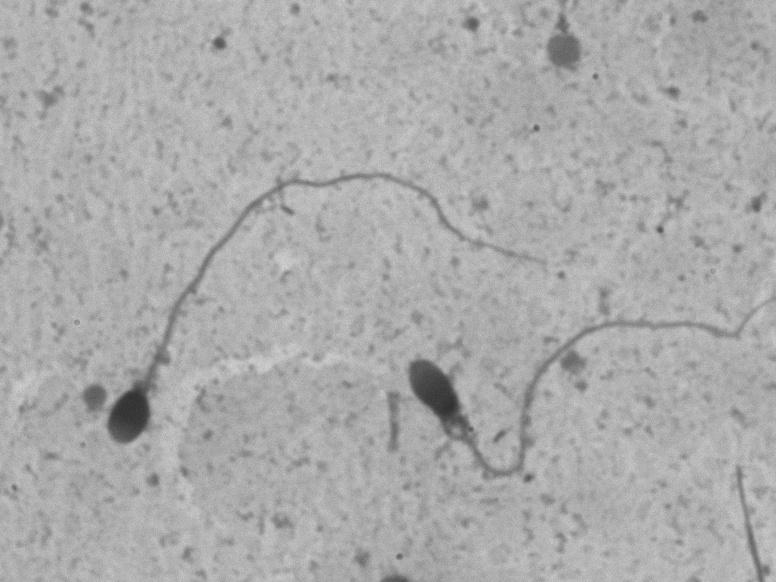Abnormal: (390, 291, 744, 507)
Normal: (89, 145, 566, 471)
